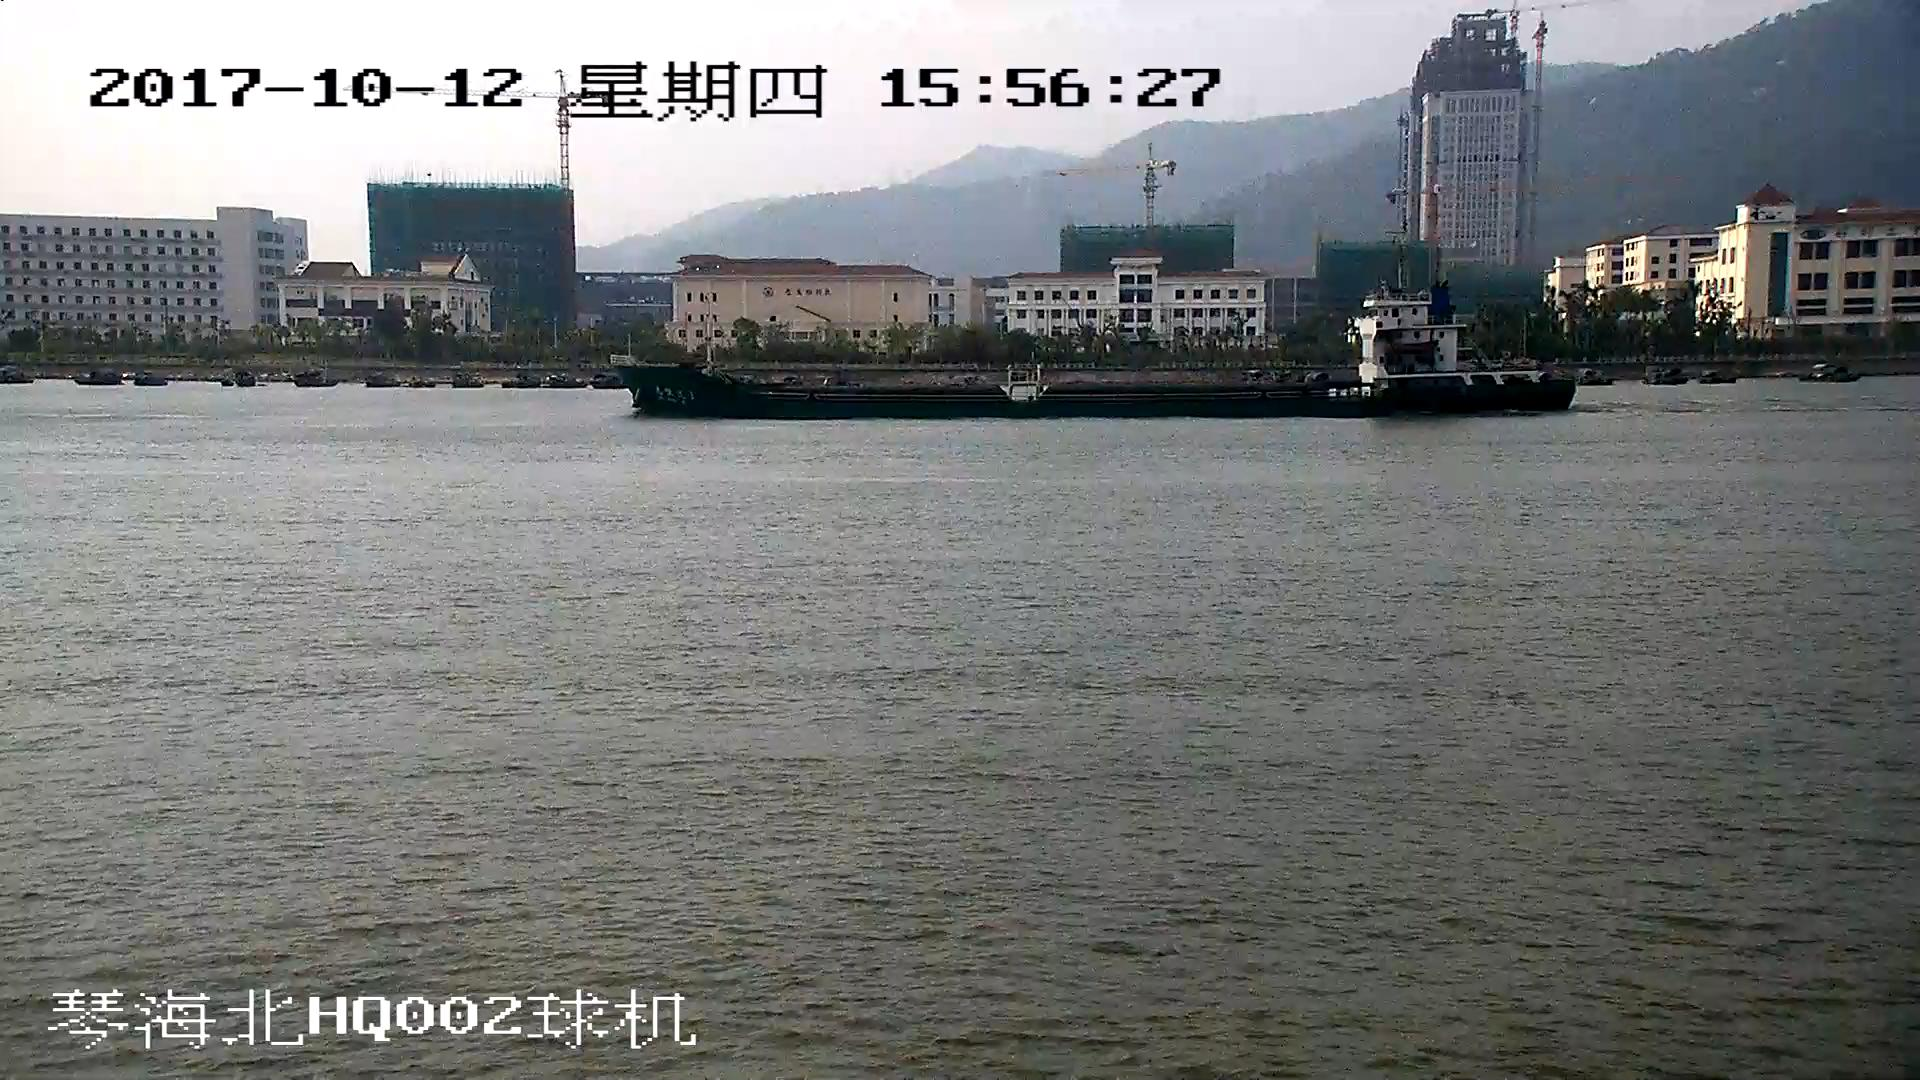general cargo ship: (607, 288, 1577, 415)
